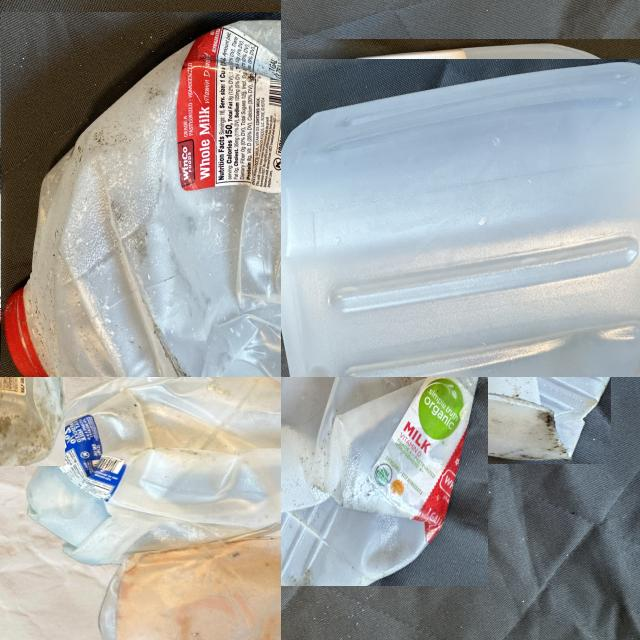milk-jug: (281, 48, 640, 377), (0, 21, 281, 377), (37, 377, 281, 568), (281, 377, 550, 524), (94, 542, 281, 640)
